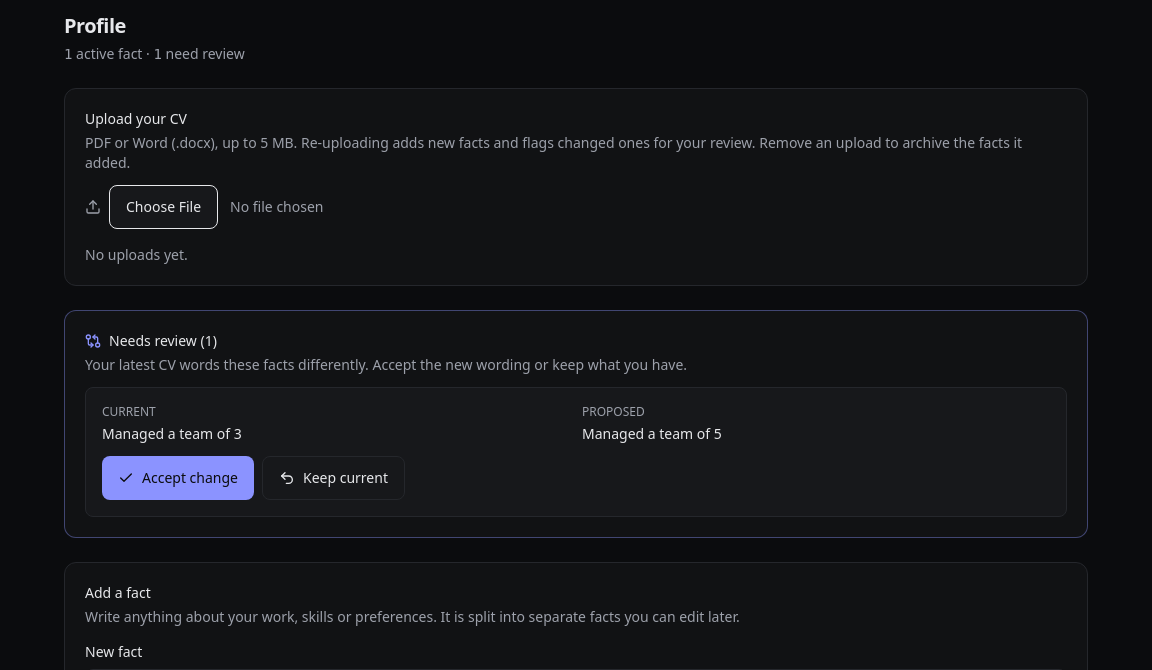
Scenario: Needs review › keeps the current text and reports a failed write
The width and height of the screenshot is (1152, 670).
Click the button "Keep current": point(334, 478) top-left (262, 456), bottom-right (405, 500)
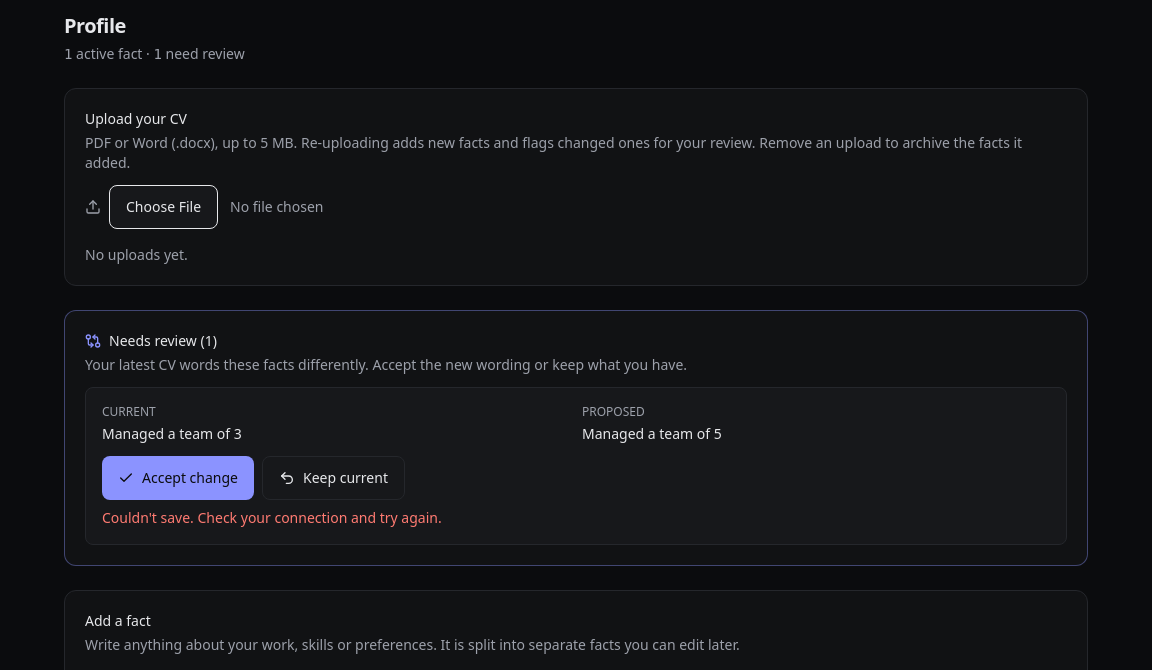
Result: the message shows "Couldn't save" at top-left (102, 508), bottom-right (442, 527)
